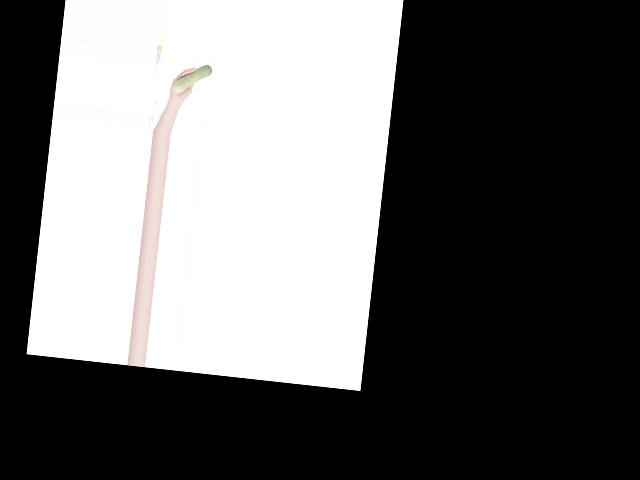cucumber: (172, 62, 211, 96)
